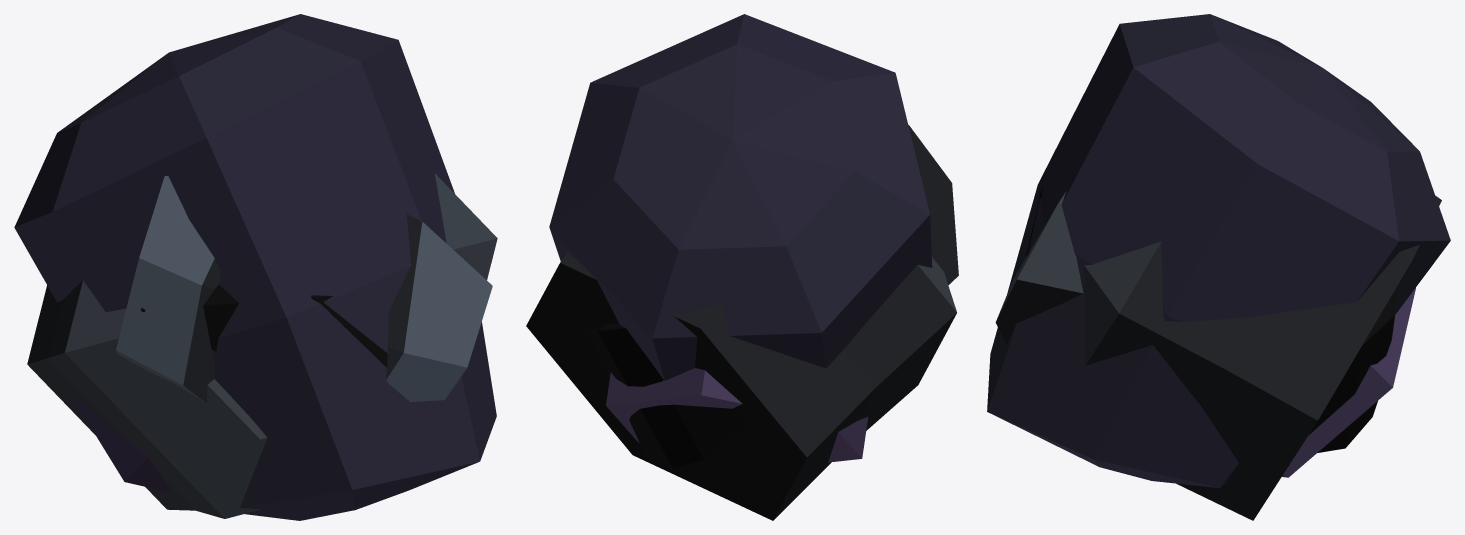
Rendered from bigboyGibs.glb.
3 renders of one model, left to right at view 1: azimuth 30°, elevation 25°; view 2: azimuth 150°, elevation 25°; view 3: azimuth 270°, elevation 25°, orthographic. The views are drawn at different scales.
Parts seen in each view (by area): view 1: EnemyBase.009, EnemyBase.003, EnemyBase.015, EnemyBase.016; view 2: EnemyBase.009, EnemyBase.015, EnemyBase.003, EnemyBase.016; view 3: EnemyBase.009, EnemyBase.015, EnemyBase.003, EnemyBase.016.
Part boxes in pixels (left/top/right/bottom): EnemyBase.009: left=14, top=14, right=496, bottom=520; EnemyBase.003: left=116, top=176, right=492, bottom=403; EnemyBase.015: left=27, top=173, right=497, bottom=518; EnemyBase.016: left=69, top=392, right=171, bottom=492; EnemyBase.009: left=549, top=14, right=932, bottom=380; EnemyBase.015: left=526, top=252, right=956, bottom=520; EnemyBase.003: left=585, top=125, right=958, bottom=468; EnemyBase.016: left=606, top=368, right=868, bottom=462; EnemyBase.009: left=987, top=14, right=1450, bottom=487; EnemyBase.015: left=1084, top=195, right=1441, bottom=520; EnemyBase.003: left=995, top=185, right=1397, bottom=452; EnemyBase.016: left=1282, top=288, right=1415, bottom=477.
Bounding box in the file's own units: 1.16 × 1.32 × 1.23.
Materials: 1 (1 with a texture image).
